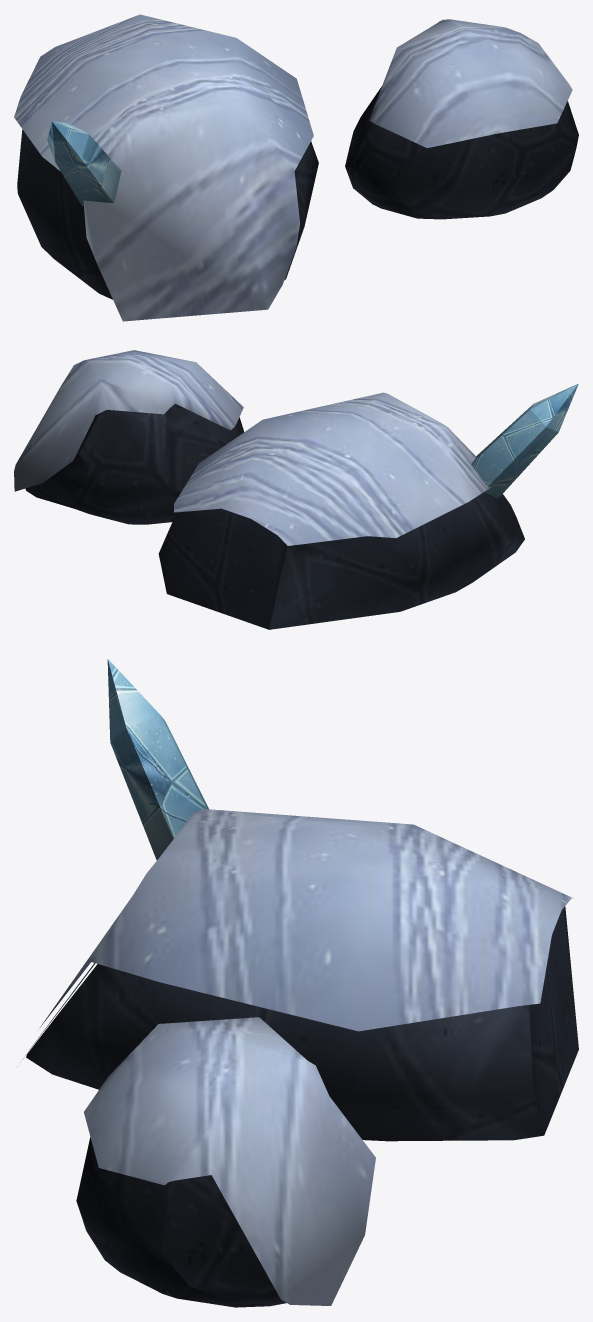
Rendered from rimeshore_ice_rock_b.glb.
The picture shows the model from 3 angles, top to bottom: view 1: azimuth 30°, elevation 25°; view 2: azimuth 150°, elevation 25°; view 3: azimuth 270°, elevation 25°; orthographic projection. The views are drawn at different scales.
Visible parts, largest first — view 1: rimeshore_ice_rock_b; view 2: rimeshore_ice_rock_b; view 3: rimeshore_ice_rock_b.
Part boxes in pixels (box(x1,y1,x2,y2)): rimeshore_ice_rock_b: box(14, 14, 578, 321); rimeshore_ice_rock_b: box(14, 350, 578, 629); rimeshore_ice_rock_b: box(22, 659, 578, 1307).
Bounding box in the file's own units: 1.81 × 0.6342 × 1.12.
3 materials, 3 textured.
